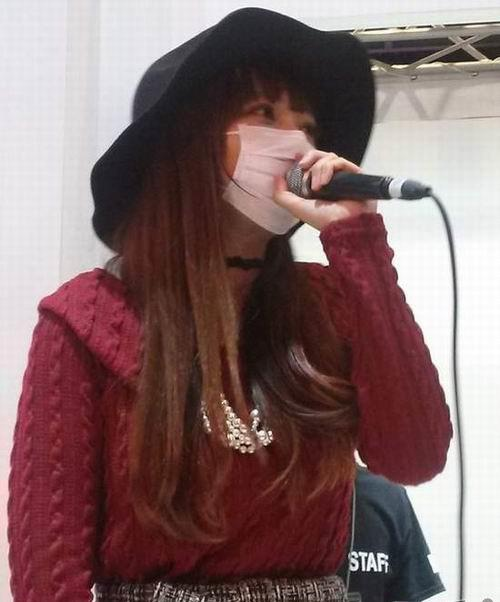OK: (188, 86, 332, 230)
